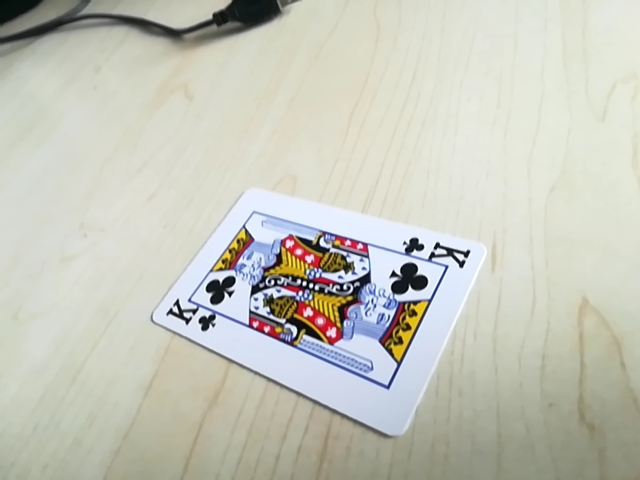mh k: (394, 234, 479, 264), (161, 306, 223, 335)
